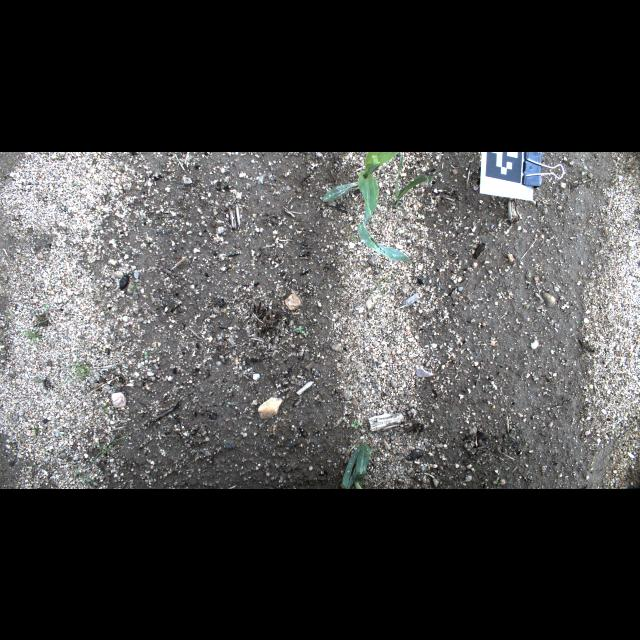crop: (319, 152, 439, 264), (340, 438, 368, 488)
weed: (26, 313, 46, 353), (67, 353, 91, 379)
